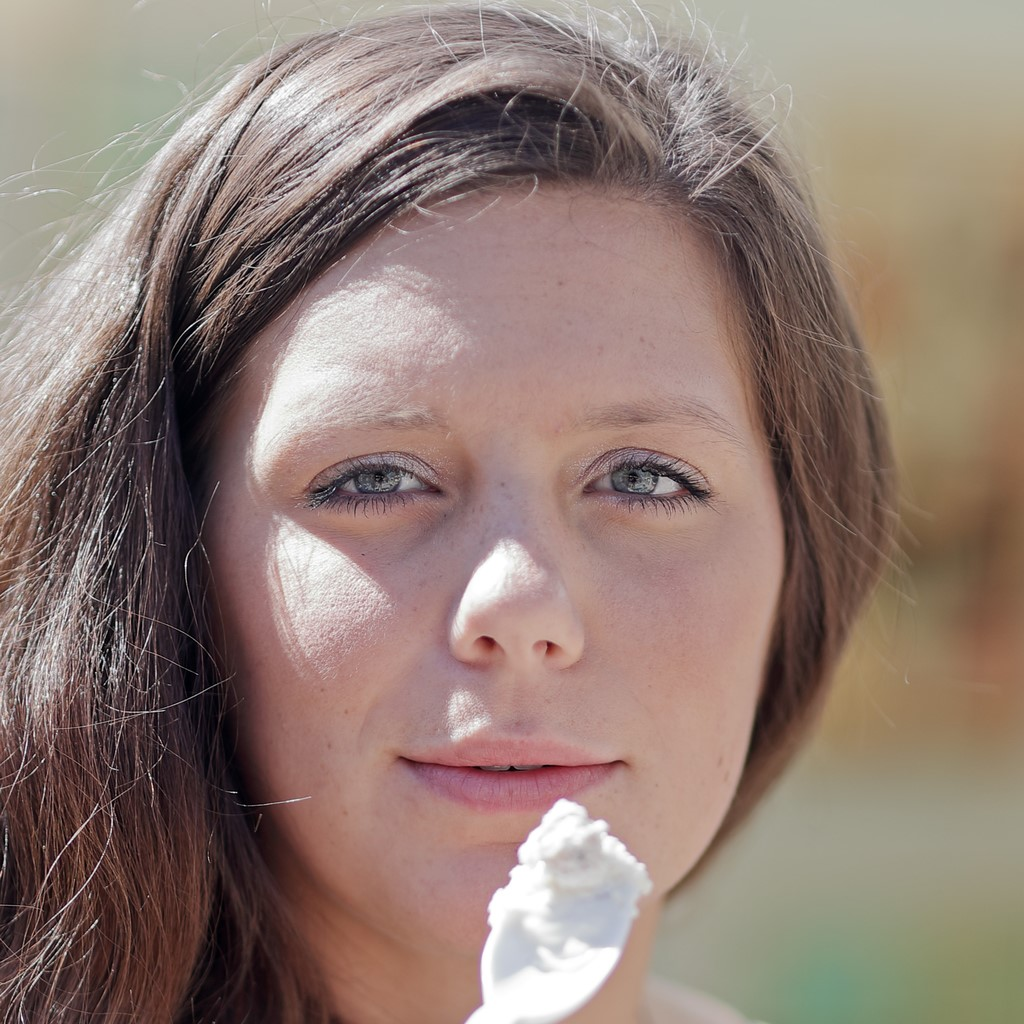sin_mascara: (162, 84, 799, 969)
